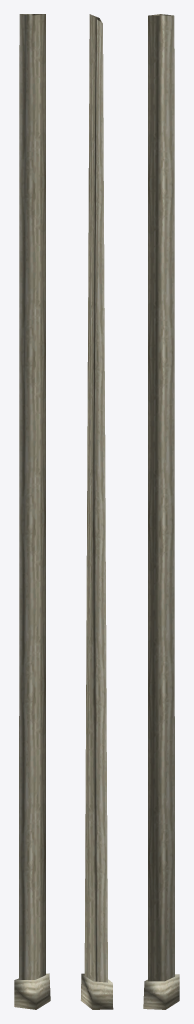
The model's file is o_hanger_extension.obj.
3 views of the same model, side by side, from view 1: azimuth 90°, elevation 25°; view 2: azimuth 210°, elevation 25°; view 3: azimuth 270°, elevation 25° (orthographic).
Parts seen in each view (by area): view 1: o_hanger_extension; view 2: o_hanger_extension; view 3: o_hanger_extension.
Part boxes in pixels (bbox=[...]): o_hanger_extension: bbox=[14, 14, 50, 1009]; o_hanger_extension: bbox=[80, 14, 113, 1009]; o_hanger_extension: bbox=[143, 14, 179, 1009].
Bounding box in the file's own units: 0.1309 × 7.91 × 0.2629.
1 material, 1 textured.
